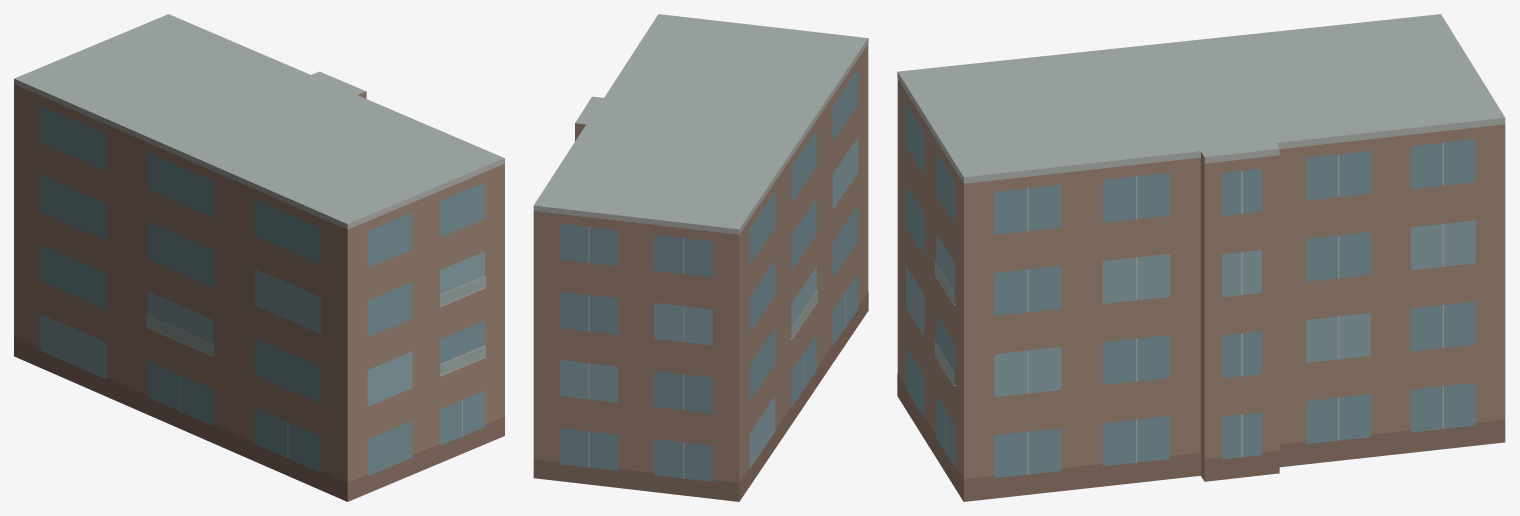
File: survey-upis-32647058.glb
3 renders of one model, left to right at view 1: azimuth 30°, elevation 25°; view 2: azimuth 150°, elevation 25°; view 3: azimuth 270°, elevation 25°, orthographic. The views are drawn at different scales.
Parts seen in each view (by area): view 1: survey-upis-32647058.tmp; view 2: survey-upis-32647058.tmp; view 3: survey-upis-32647058.tmp.
Boxes of the visible parts, x1,y1,x2,y2 form: survey-upis-32647058.tmp: (14, 14, 504, 501); survey-upis-32647058.tmp: (533, 14, 868, 501); survey-upis-32647058.tmp: (897, 14, 1505, 501).
Size of the model in its own units: 13.29 by 12.3 by 20.89.
